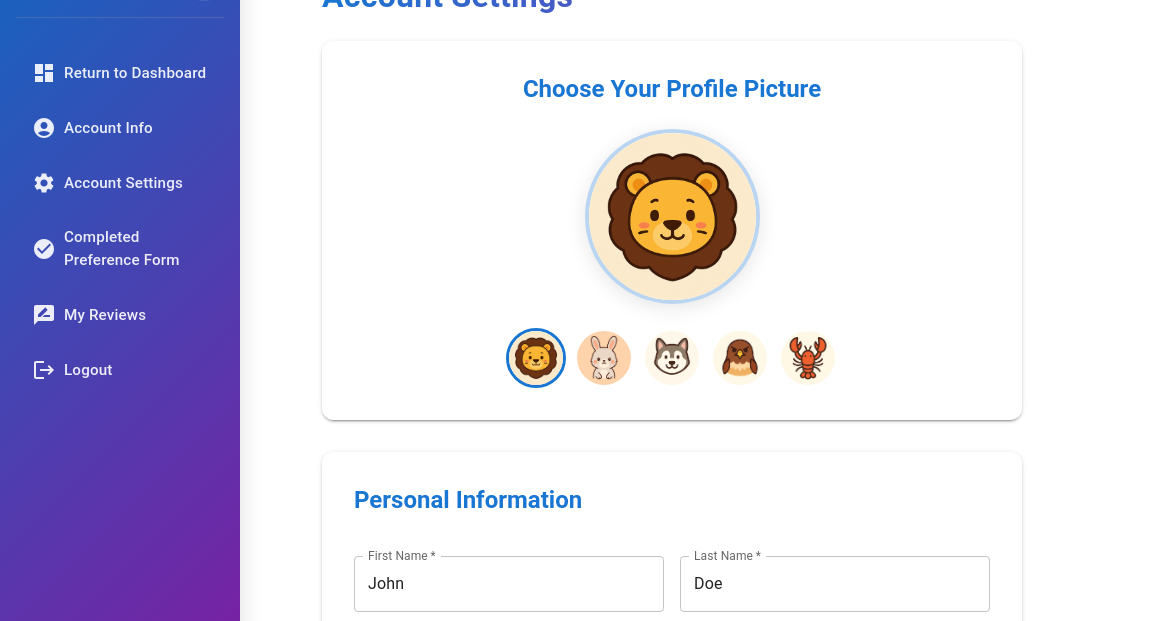
Test: AccountSettings Page › successfully changes data when updated
Expected: the heading "Choose Your Profile Picture" is shown, [523,74,821,102]
Note: Simulate user editing.
Replace the text in the field labelled "First Name *" with "Jane" at (509, 584), box [354,556,664,612]
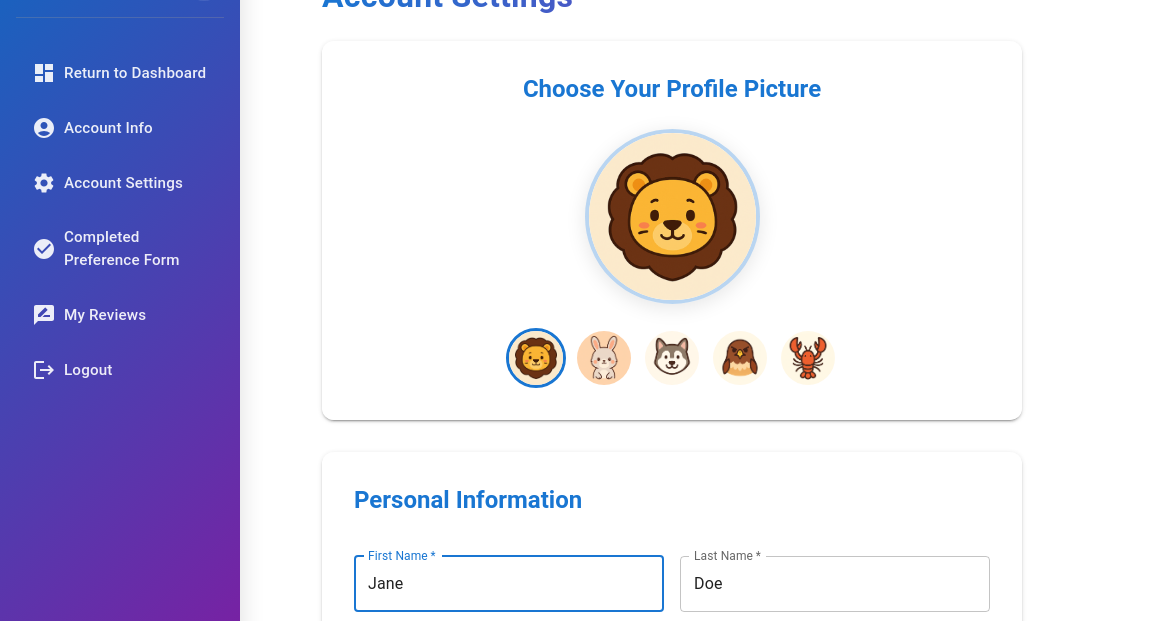
Replace the text in the field labelled "Last Name *" with "Smith" at (835, 584), box [680,556,990,612]
(page scrolled)
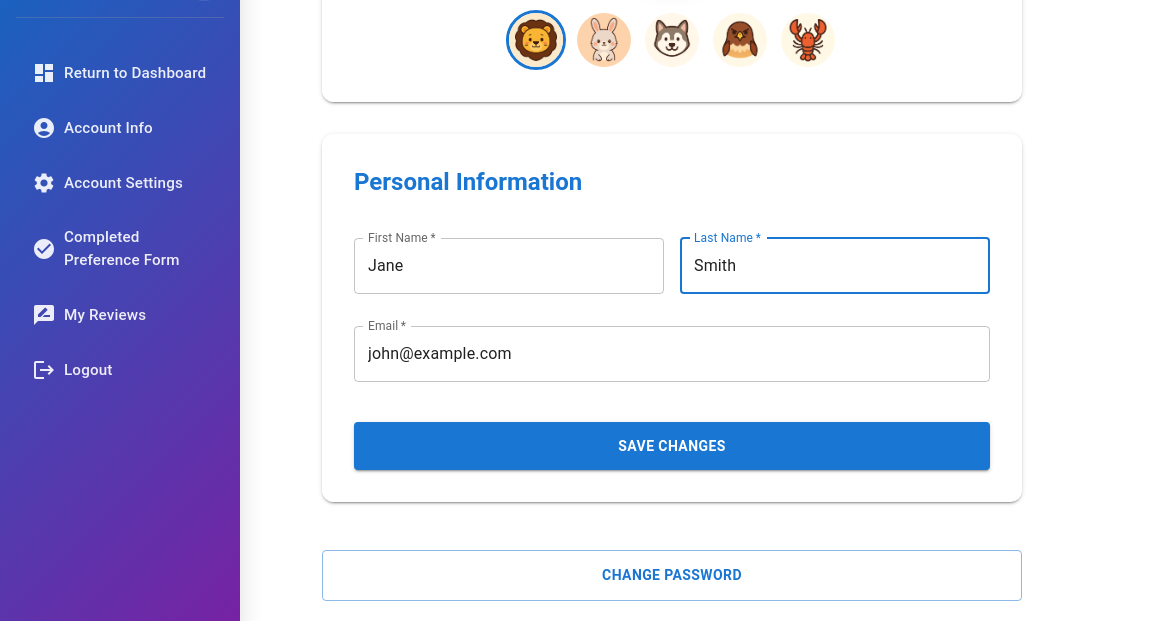
Replace the text in the field labelled "Email *" with "jane.smith@test.edu" at (672, 354), box [354,326,990,382]
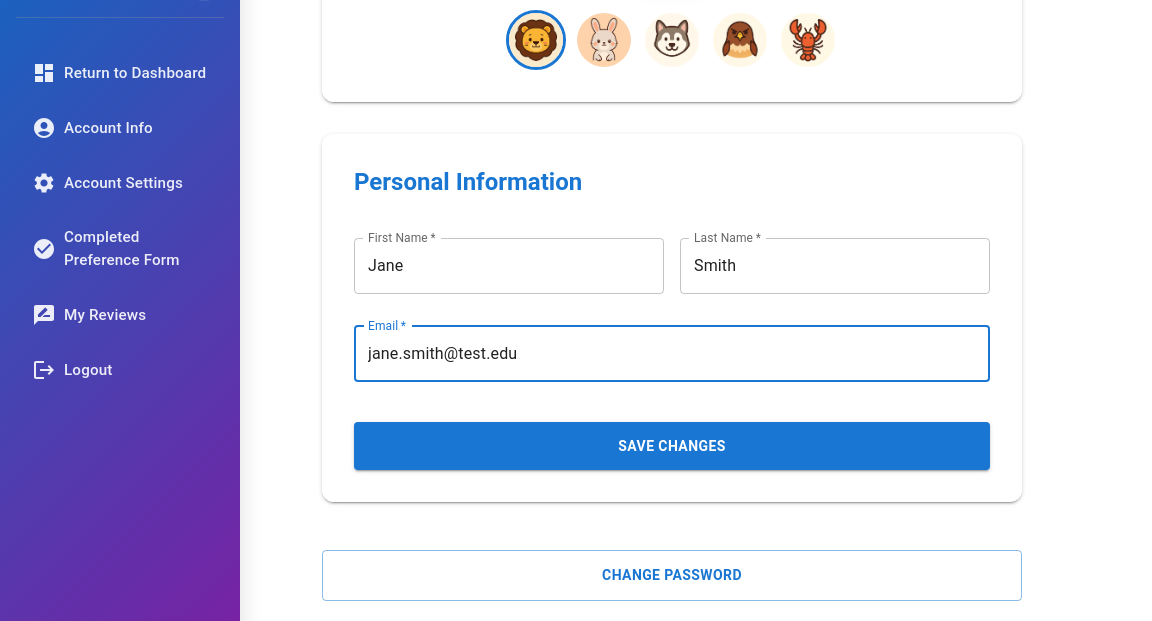
Click the button "Save Changes".
click(672, 446)  # box [354,422,990,470]
(page scrolled)
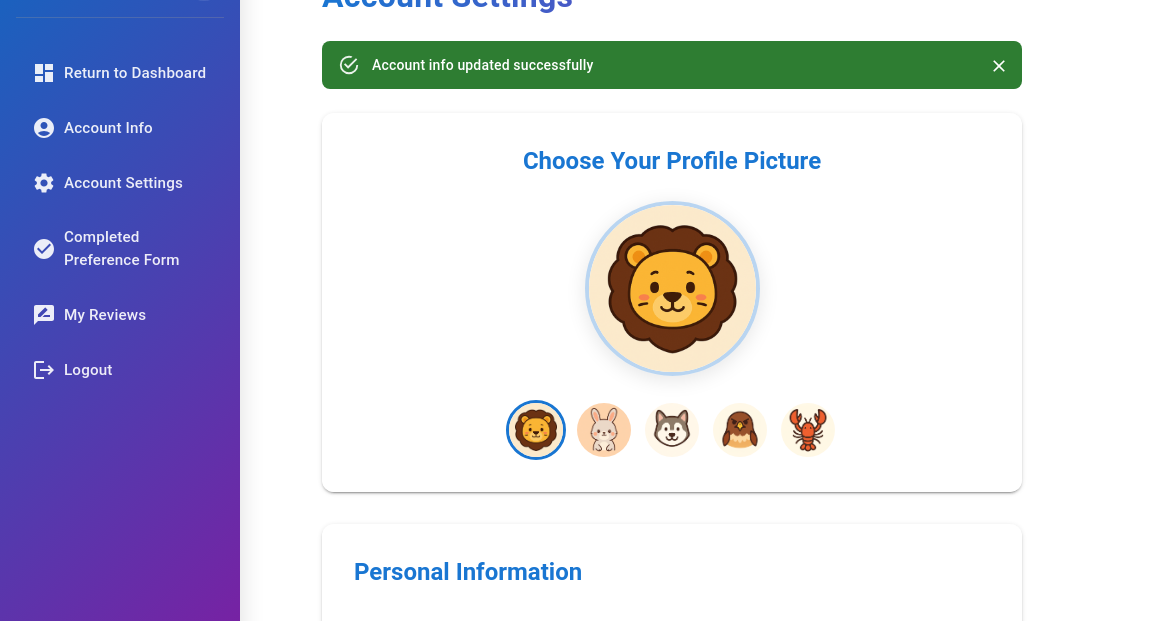
Expected: the text "Account info updated successfully" is shown, [372,56,594,72]
